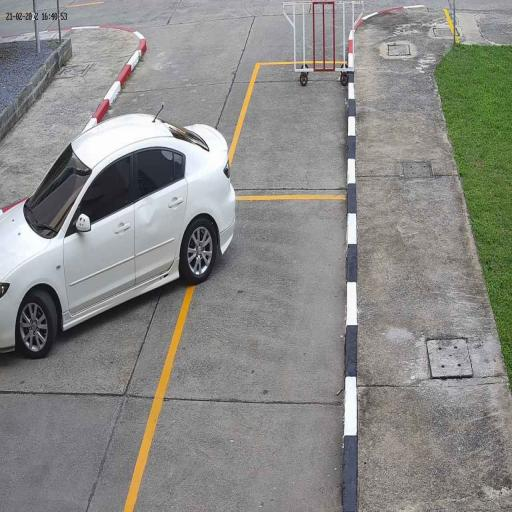car: (1, 113, 235, 358)
